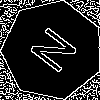N: (27, 25, 87, 82)
